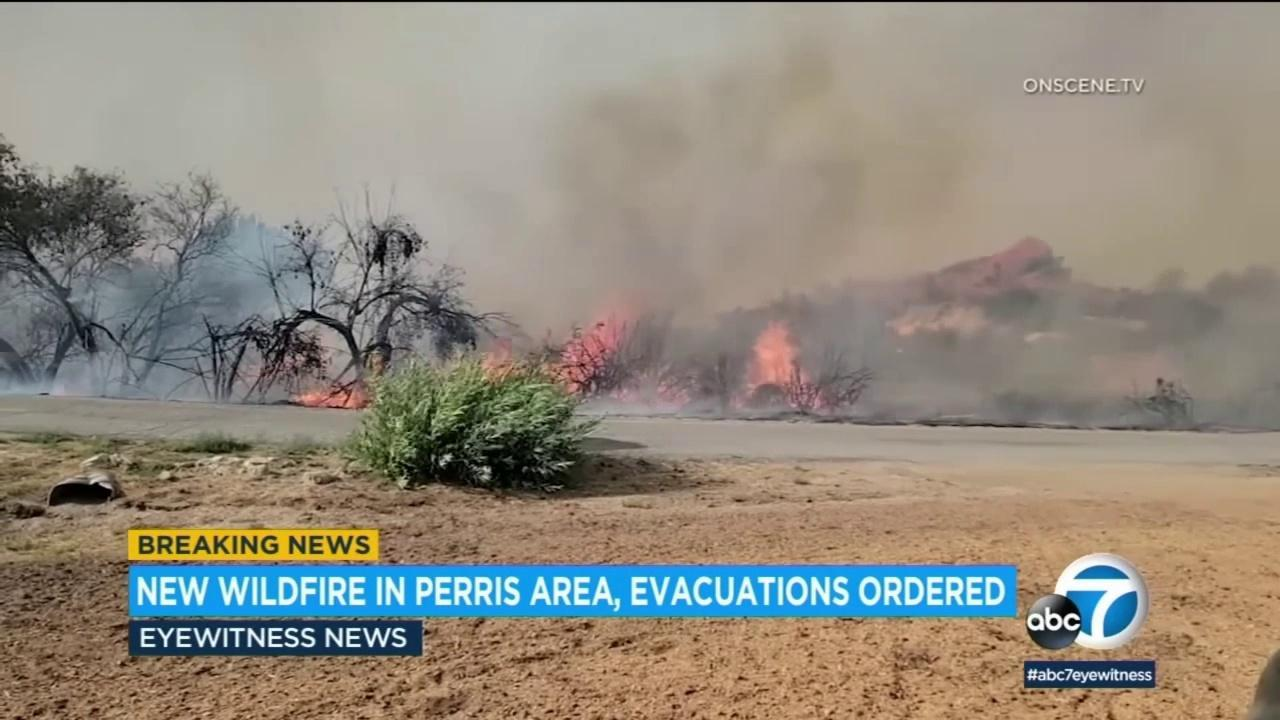fire: (726, 318, 829, 415), (548, 311, 644, 392), (610, 371, 692, 407), (480, 335, 516, 380), (291, 387, 362, 409)
smoke: (0, 3, 1280, 431)
